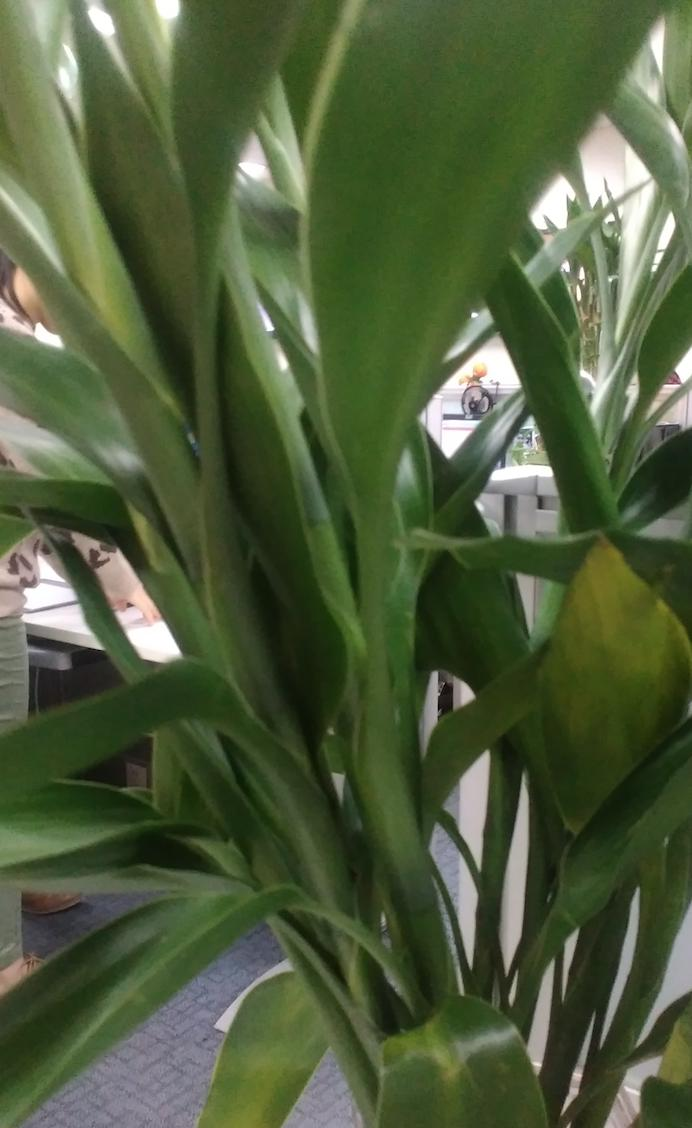ImgView: (1, 1, 691, 1127)
